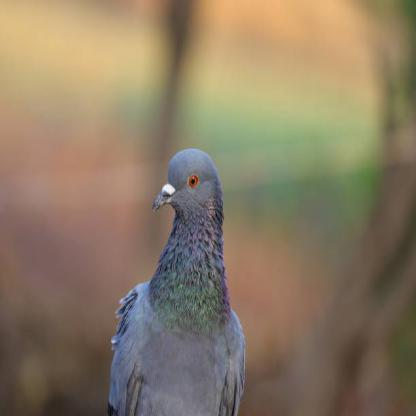Rock Pigeon: (100, 141, 250, 411)
